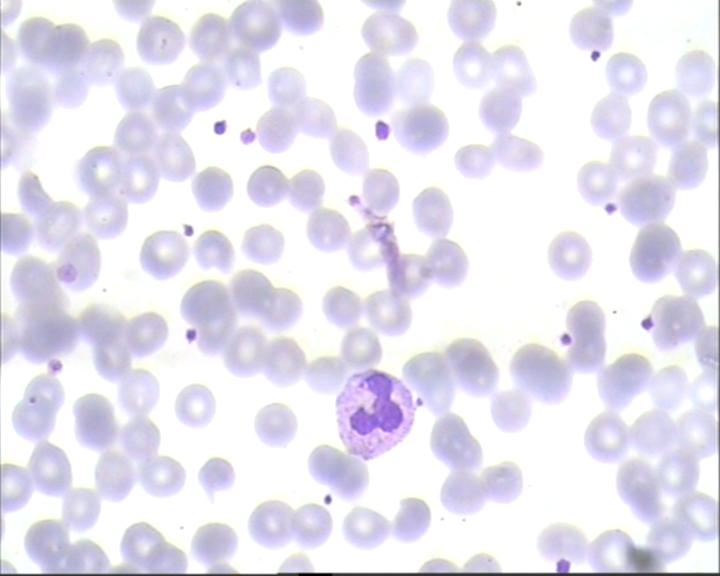neut: (330, 363, 420, 461)
